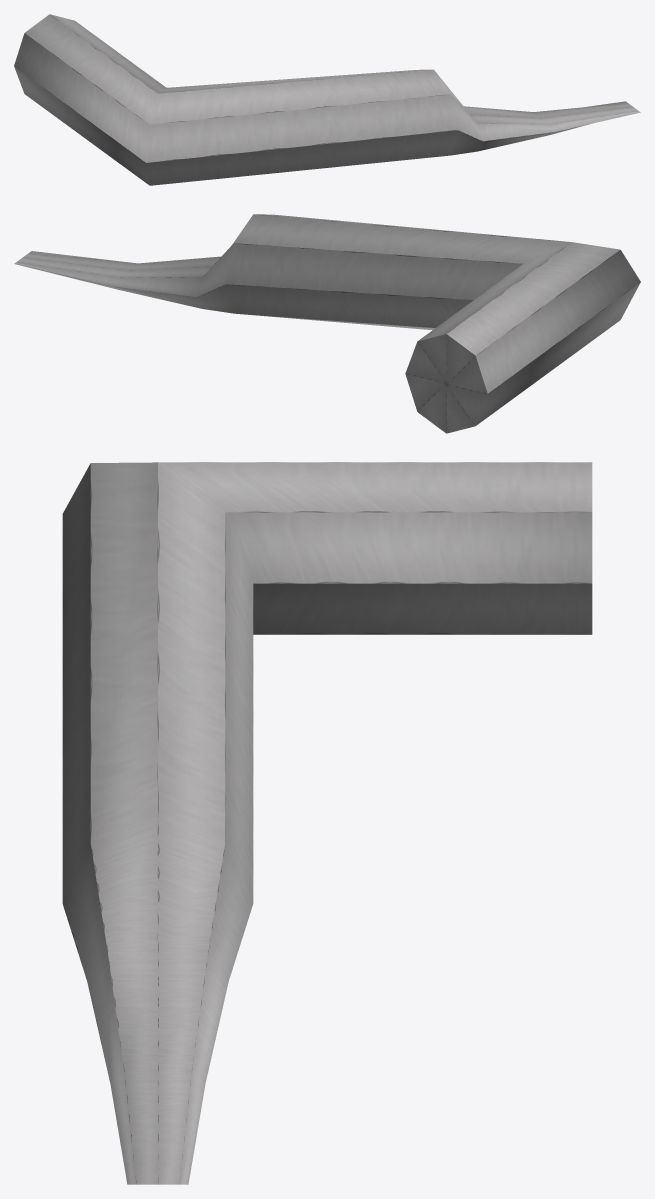
The model's file is flipper.obj.
3 renders of one model, top to bottom at view 1: azimuth 30°, elevation 25°; view 2: azimuth 150°, elevation 25°; view 3: azimuth 270°, elevation 25°, orthographic. The views are drawn at different scales.
Visible parts, largest first — view 1: flipper; view 2: flipper; view 3: flipper.
Part boxes in pixels (x1=…): flipper: x1=14, y1=14, x2=640, y2=185; flipper: x1=14, y1=214, x2=640, y2=433; flipper: x1=62, y1=462, x2=592, y2=1184.
Bounding box in the file's own units: 1.4 × 0.3439 × 0.6297.
1 material, 1 textured.
